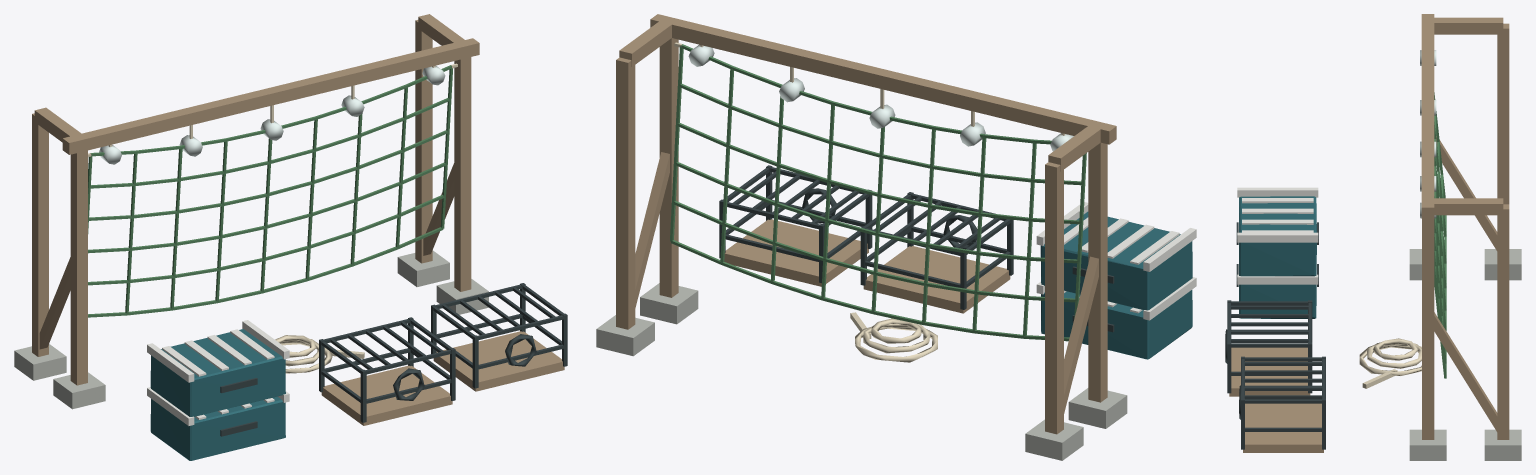
The model's file is ENV_BeachFishingGear_LOD1.fbx.
3 views of the same model, side by side, from view 1: azimuth 30°, elevation 25°; view 2: azimuth 150°, elevation 25°; view 3: azimuth 270°, elevation 25° (orthographic). The views are drawn at different scales.
Visible parts, largest first — view 1: ENV_BeachFishingGear_Root_Visual; view 2: ENV_BeachFishingGear_Root_Visual; view 3: ENV_BeachFishingGear_Root_Visual.
Part boxes in pixels (bbox=[...]): ENV_BeachFishingGear_Root_Visual: bbox=[14, 14, 567, 460]; ENV_BeachFishingGear_Root_Visual: bbox=[596, 14, 1196, 460]; ENV_BeachFishingGear_Root_Visual: bbox=[1225, 14, 1521, 460].
Size of the model in its own units: 402 by 241 by 256.
